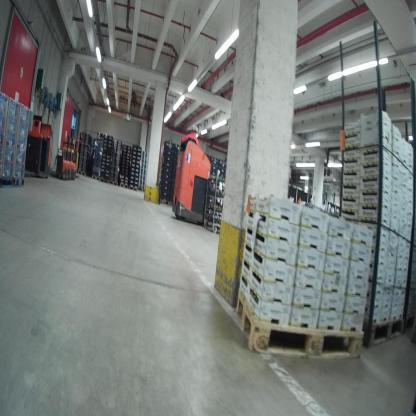pallet: (234, 285, 366, 360), (349, 311, 407, 351), (91, 173, 111, 185), (159, 196, 177, 207), (78, 169, 88, 178), (119, 181, 129, 189), (137, 186, 147, 193), (129, 185, 137, 192), (110, 180, 118, 187)
pallet_truck: (170, 115, 216, 228), (19, 105, 54, 185), (49, 132, 71, 178), (65, 134, 76, 181), (68, 137, 79, 180)
